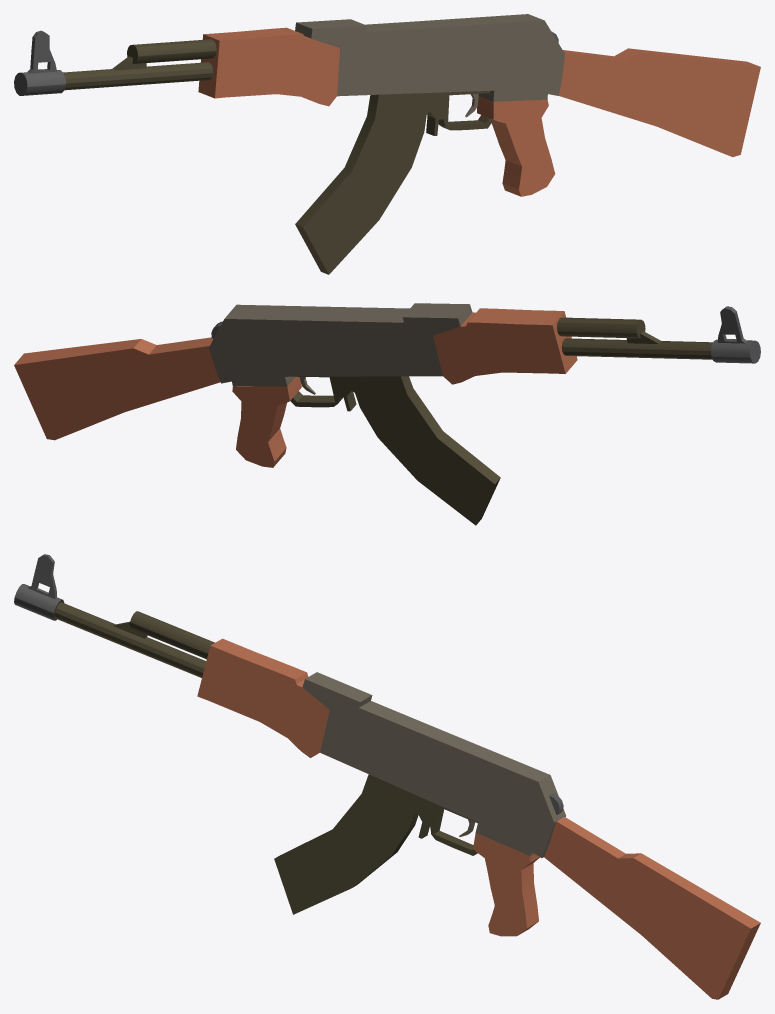
The model's file is gun.glb.
3 views of the same model, one above another, from view 1: azimuth 30°, elevation 25°; view 2: azimuth 150°, elevation 25°; view 3: azimuth 330°, elevation 25° (orthographic). The views are drawn at different scales.
Visible parts, largest first — view 1: Plane.002; view 2: Plane.002; view 3: Plane.002.
Part boxes in pixels (x1=…): Plane.002: x1=14, y1=14, x2=760, y2=274; Plane.002: x1=14, y1=303, x2=760, y2=525; Plane.002: x1=14, y1=554, x2=760, y2=999.
Size of the model in its own units: 26.49 by 10.09 by 2.17.
